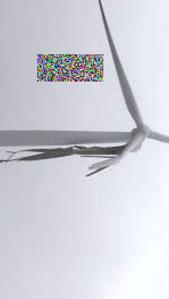faulty: (6, 123, 161, 180)
